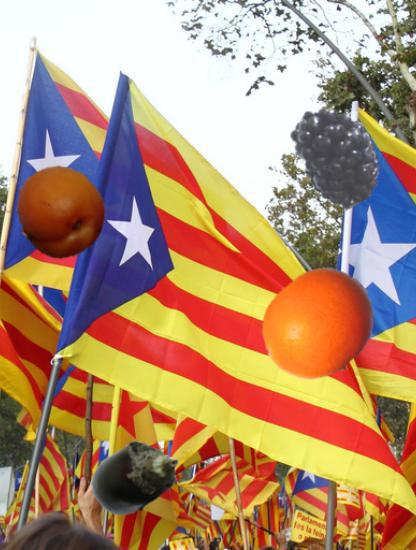Apricot: (13, 165, 108, 260)
Eggplant: (89, 430, 182, 523)
Grapefruit: (261, 267, 378, 384)
Mulberry: (285, 101, 391, 207)
